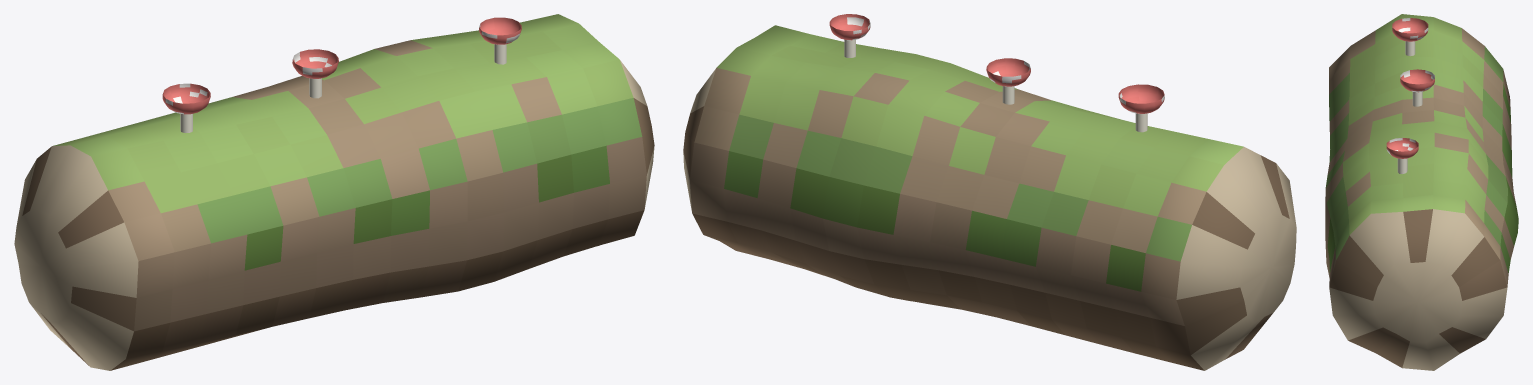
Rendered from Mossy_Log.glb.
3 renders of one model, left to right at view 1: azimuth 30°, elevation 25°; view 2: azimuth 150°, elevation 25°; view 3: azimuth 270°, elevation 25°, orthographic. The views are drawn at different scales.
Visible parts, largest first — view 1: MossyLog; view 2: MossyLog; view 3: MossyLog.
Part boxes in pixels (box(x1,y1,x2,y2)): MossyLog: box(14, 14, 654, 370); MossyLog: box(683, 14, 1296, 370); MossyLog: box(1325, 14, 1518, 370).
Size of the model in its own units: 2.63 by 1.11 by 0.9777.
